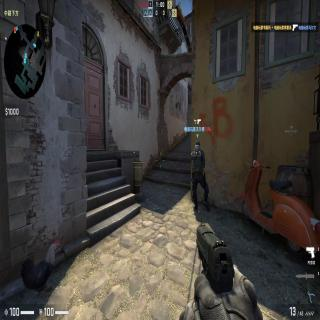CT-Body: (189, 140, 211, 211)
CT-Head: (195, 139, 200, 149)
